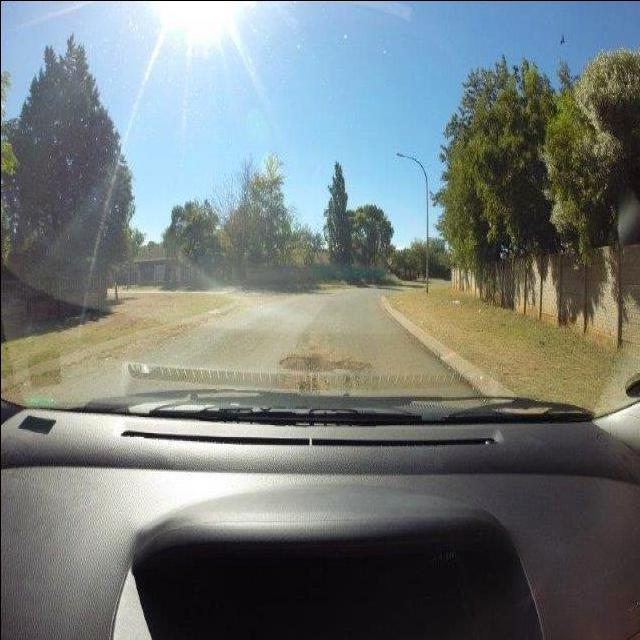lubang: (276, 346, 375, 378)
